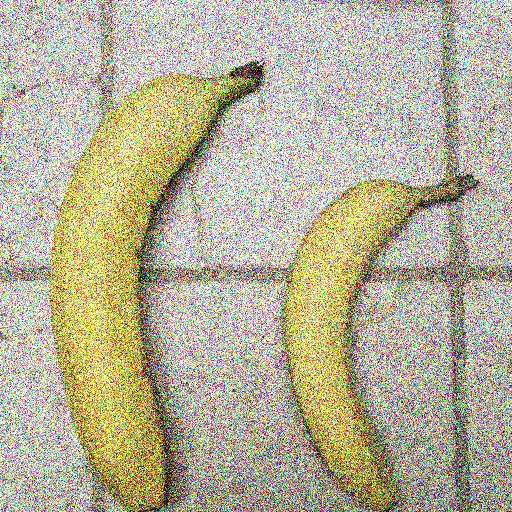fruit: (129, 38, 388, 127), (444, 89, 495, 284)
